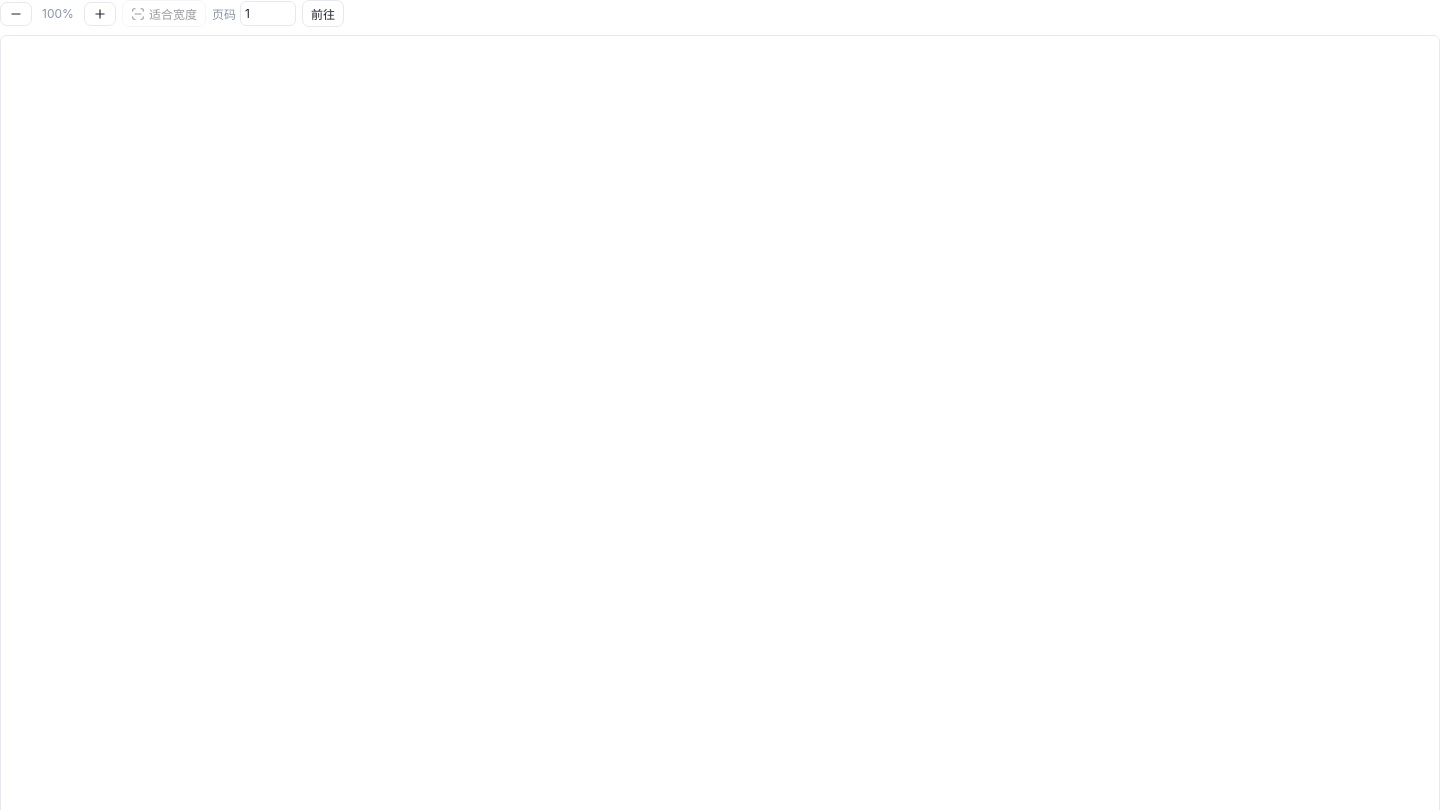
Scenario: manual page navigation loads and locates a later page
The width and height of the screenshot is (1440, 810).
Step 1. Replace the text in the number field named "PDF 页码" with "8" → (268, 14), box [240,1,296,26]
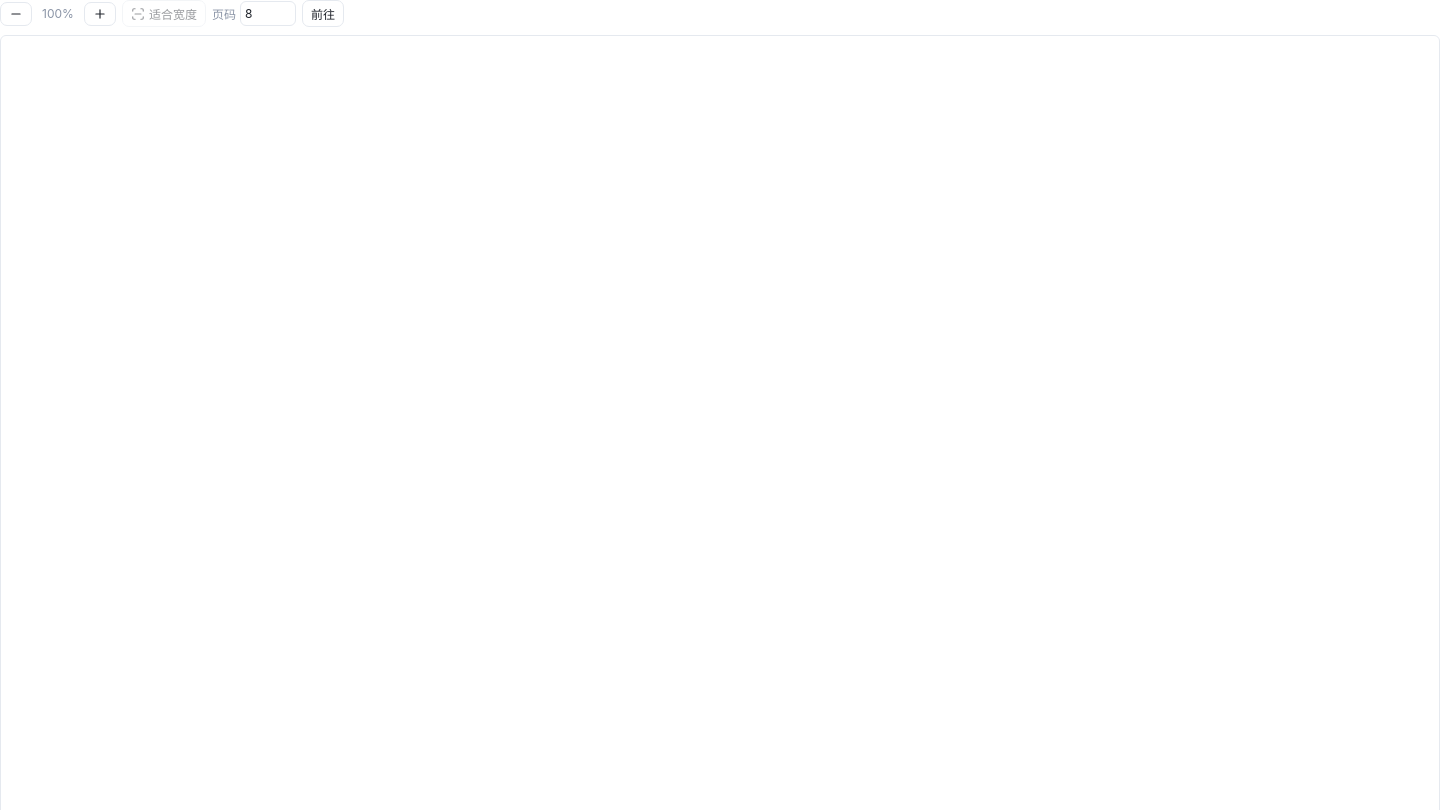
Step 2. Click the button "前往" → (323, 14), box [302,0,344,27]
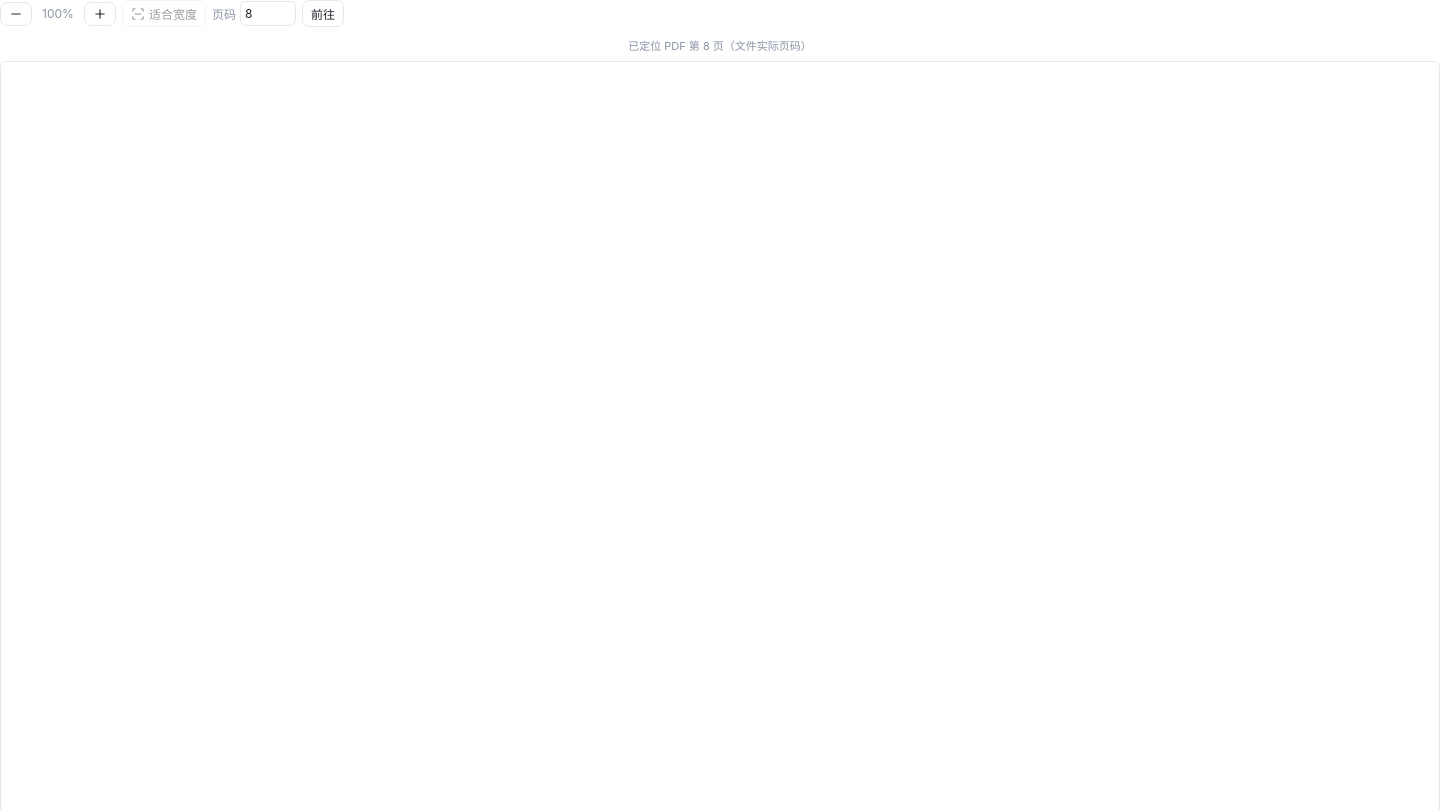
Now the text "已定位 PDF 第 8 页（文件实际页码）" is shown, box [628,39,812,53]
